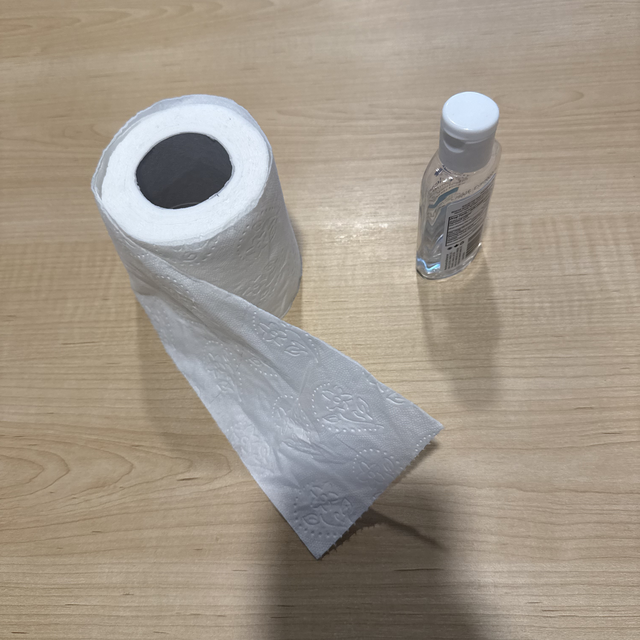Sanitizer: (389, 88, 530, 319)
Toilet Paper: (62, 102, 429, 536)
